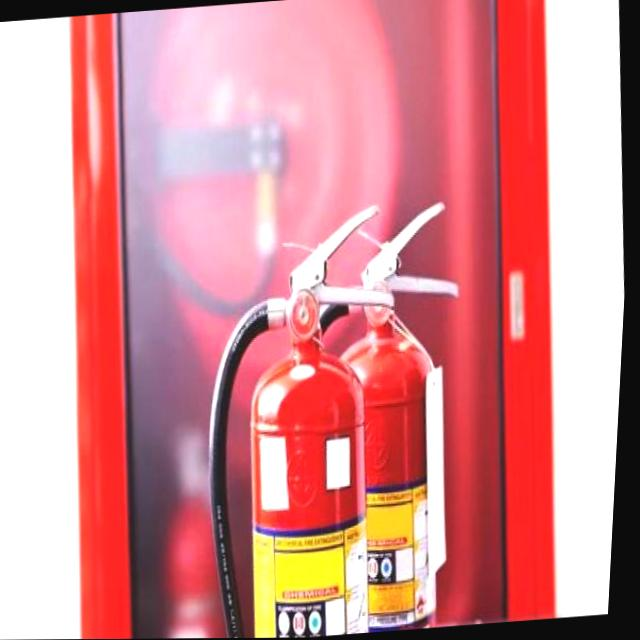FireExtinguisher: (184, 193, 428, 639), (258, 189, 492, 637)
